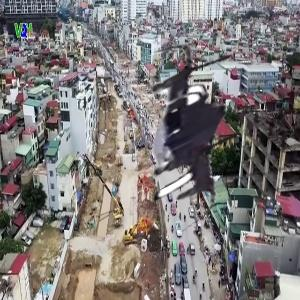drone: (97, 40, 284, 227)
